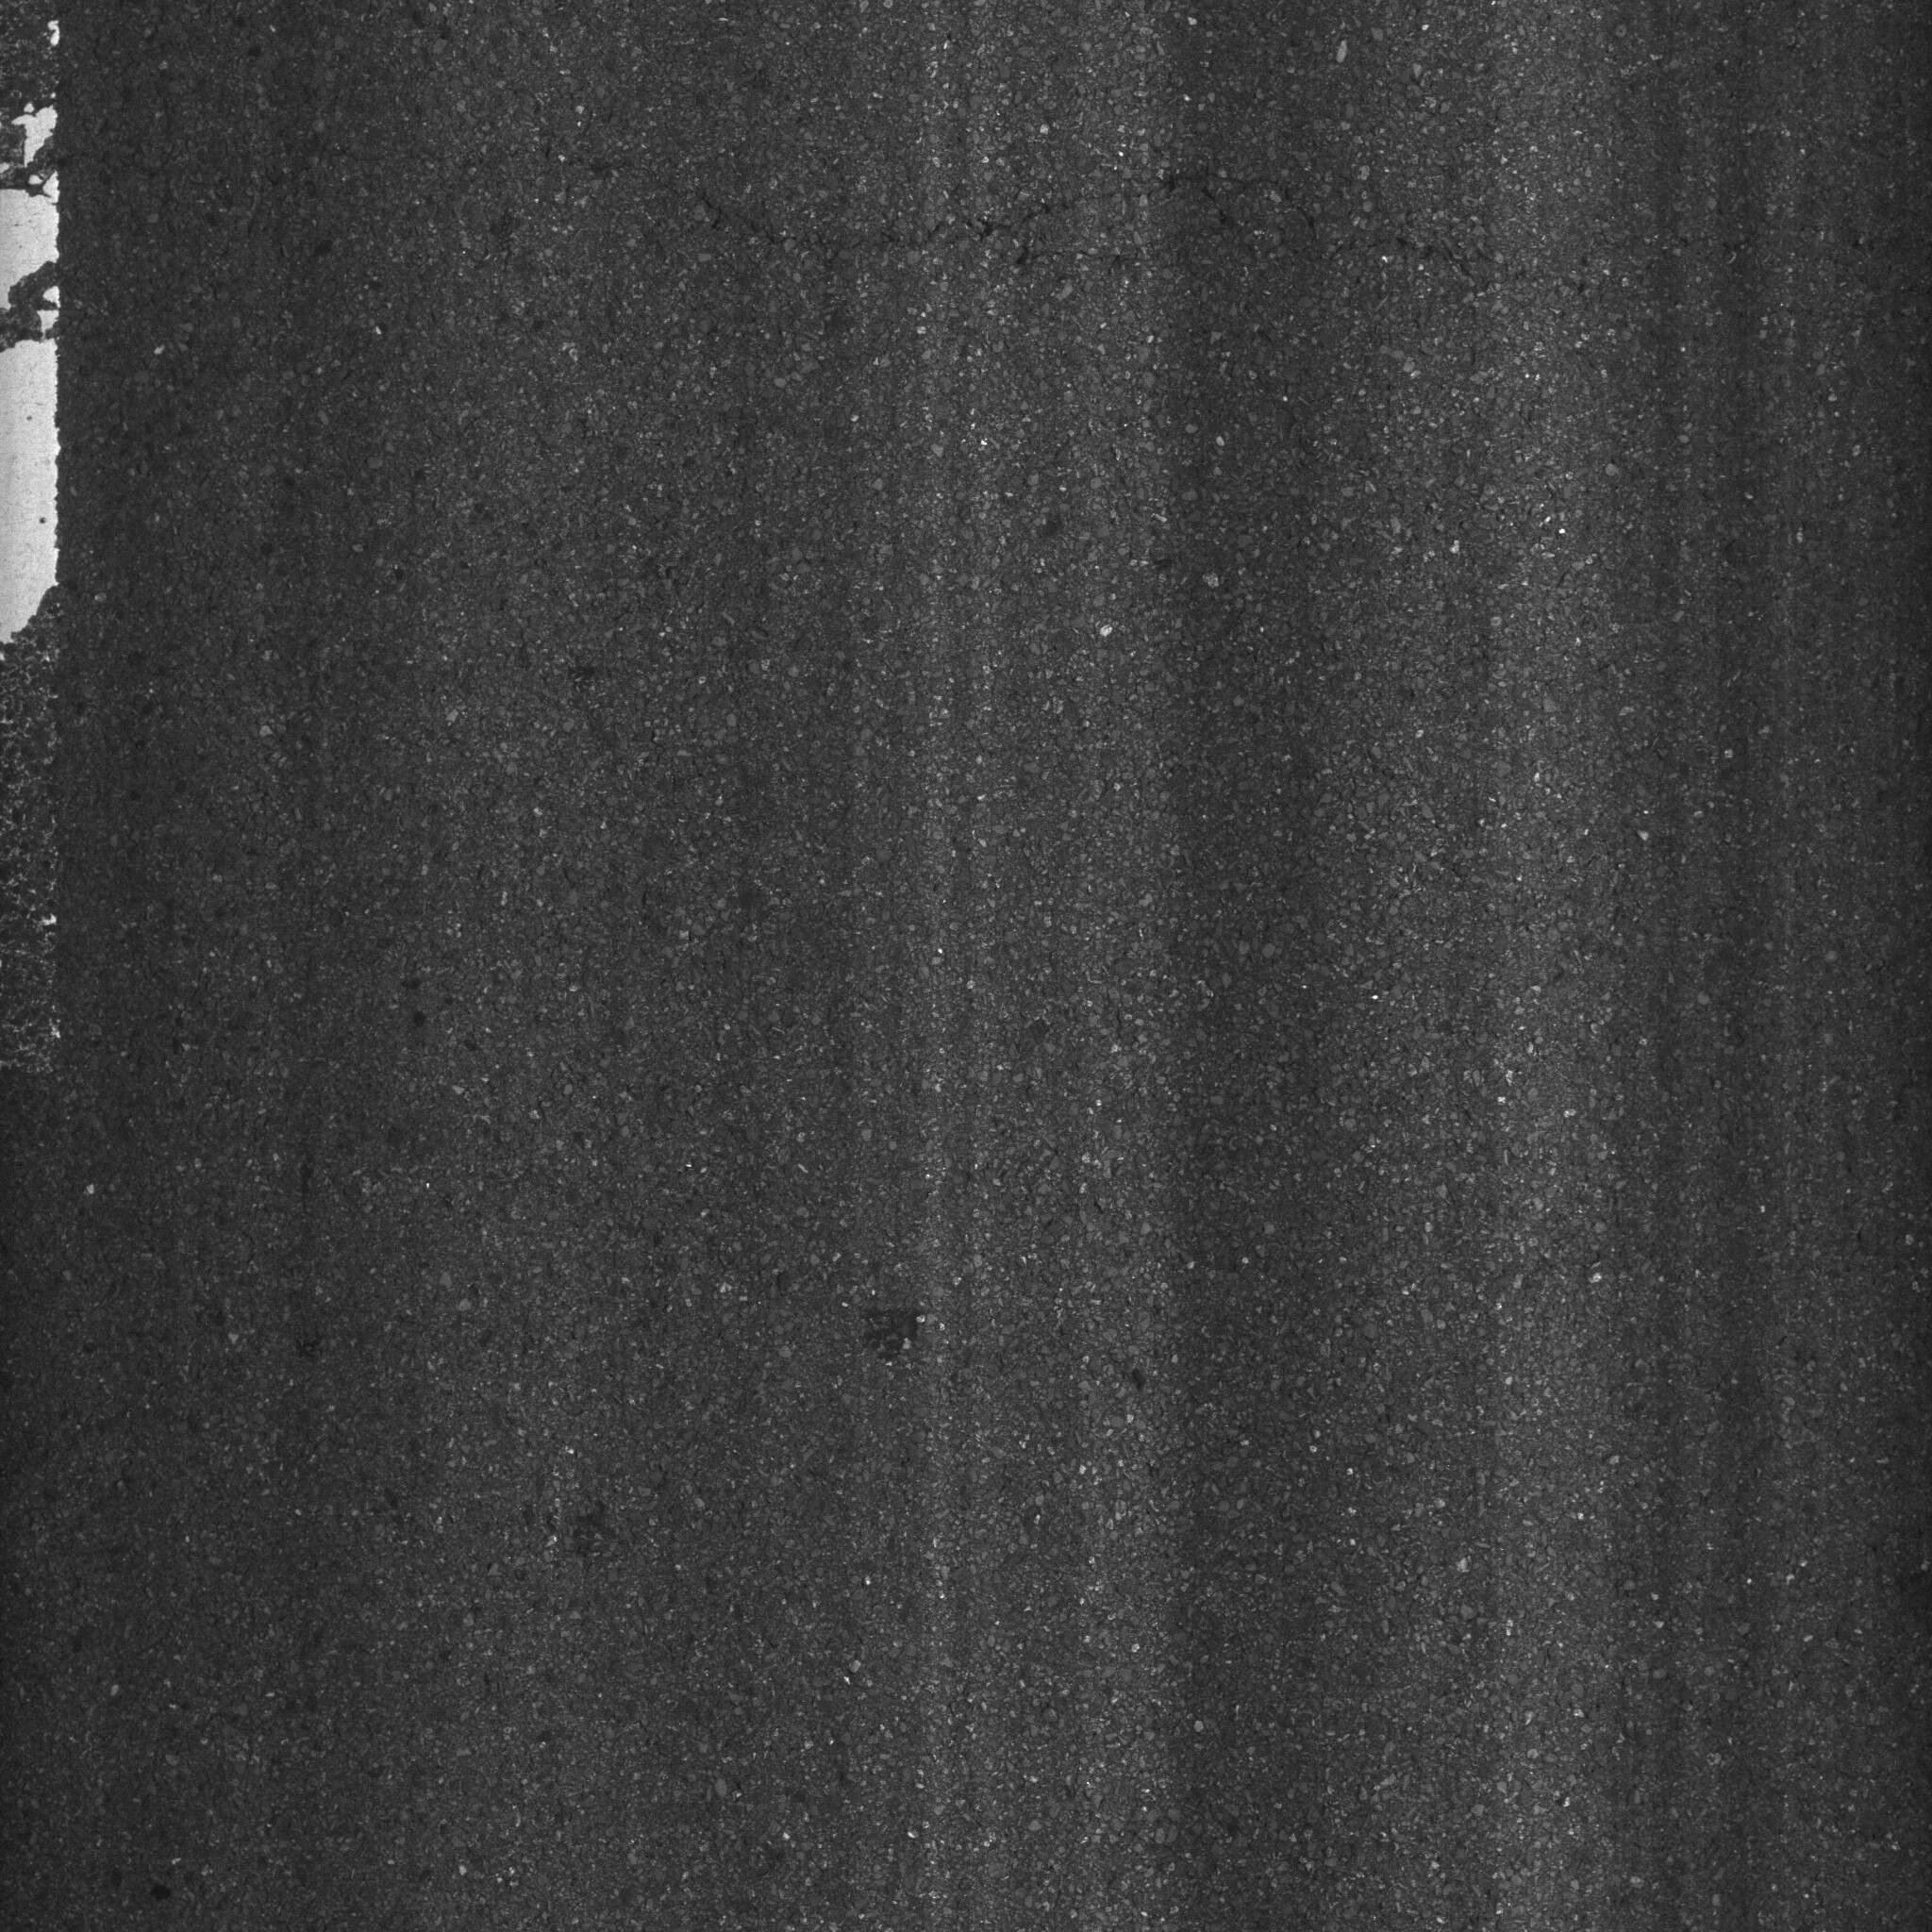transverse: (681, 163, 1514, 311)
